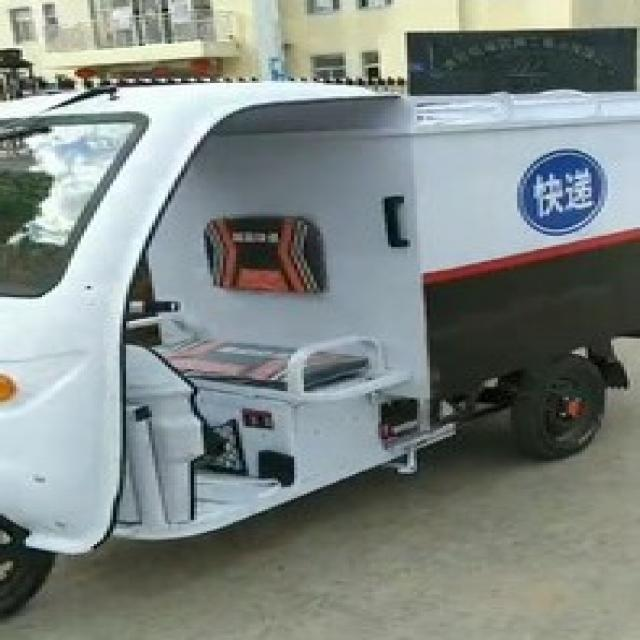tricycle: (6, 68, 634, 622)
